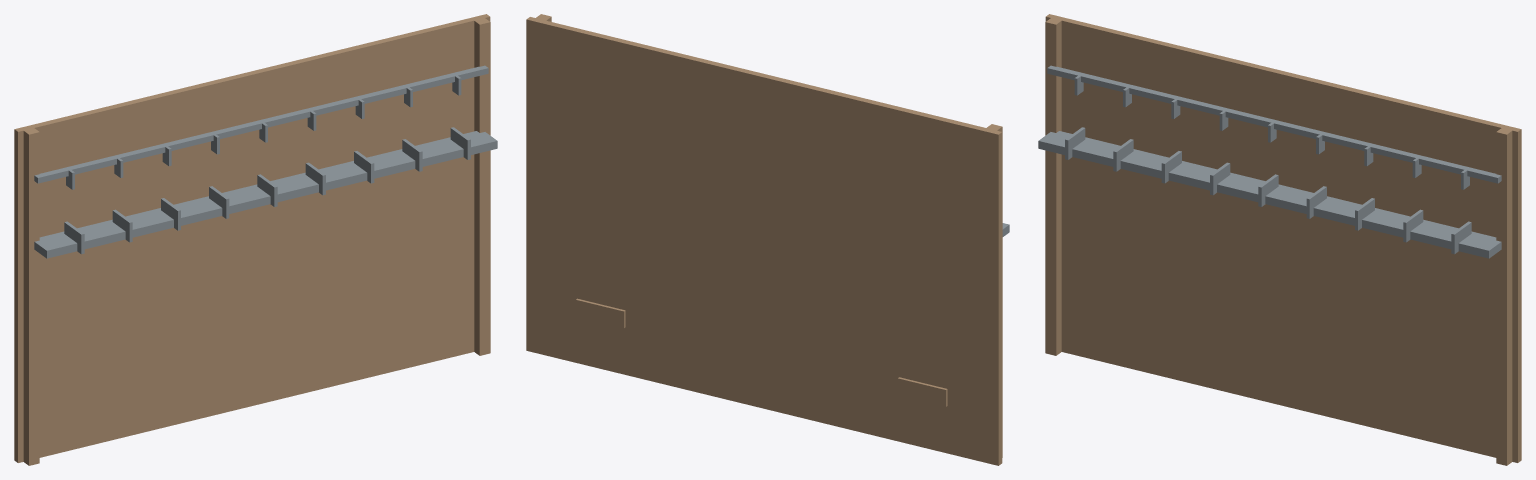
File: weapon_rack.glb
The picture shows the model from 3 angles, left to right: view 1: azimuth 30°, elevation 25°; view 2: azimuth 150°, elevation 25°; view 3: azimuth 330°, elevation 25°; orthographic projection.
Parts seen in each view (by area): view 1: rack_wood, rack_metal; view 2: rack_wood; view 3: rack_wood, rack_metal.
Boxes of the visible parts, x1,y1,x2,y2 form: rack_wood: [14, 14, 490, 465]; rack_metal: [34, 65, 497, 258]; rack_wood: [526, 14, 1002, 465]; rack_wood: [1045, 14, 1521, 465]; rack_metal: [1038, 65, 1501, 258].
Size of the model in its own units: 1.76 by 1.18 by 0.175.
